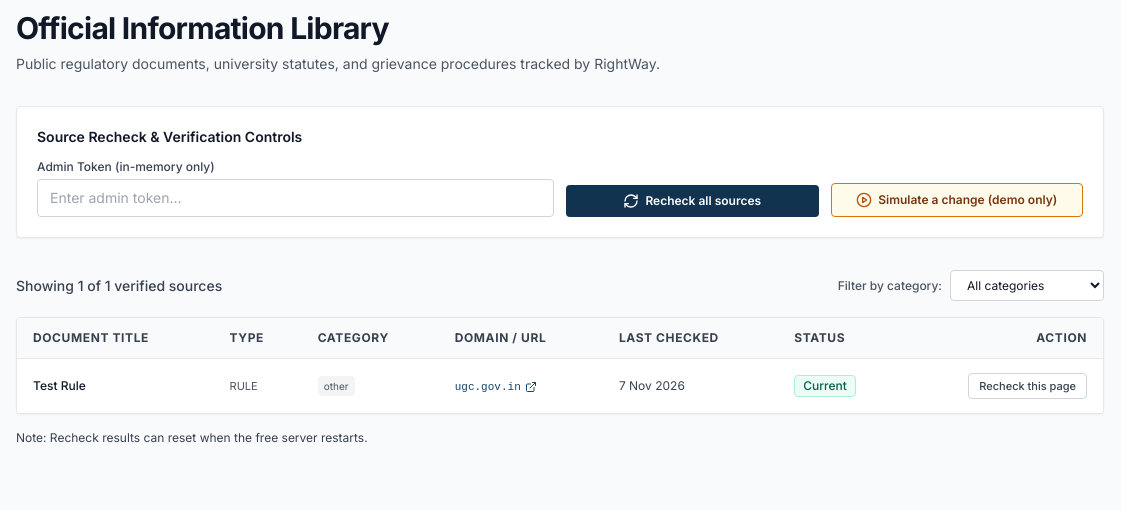
Test: Step 4: Sources and About Pages › shows "The admin token was not accepted." on 401 error
Expected: the text "Test Rule" is shown, [33,378,86,393]
Step 1. Type "wrong-token" into the password field labelled "Admin Token (in-memory only)" → (296, 198), box [37,179,554,217]
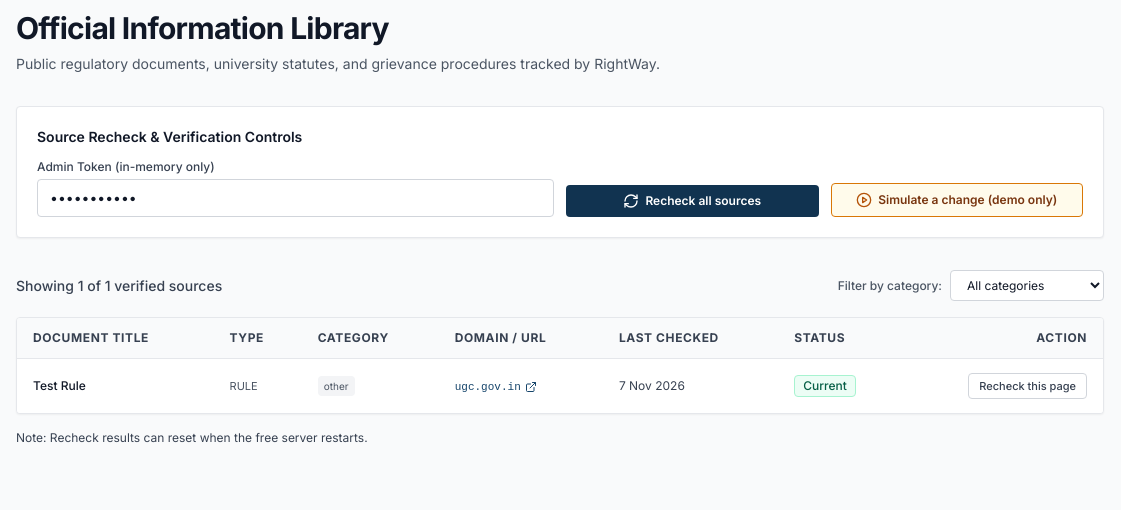
Step 2. Click the button "Recheck all sources" → (692, 201), box [566,185,818,217]
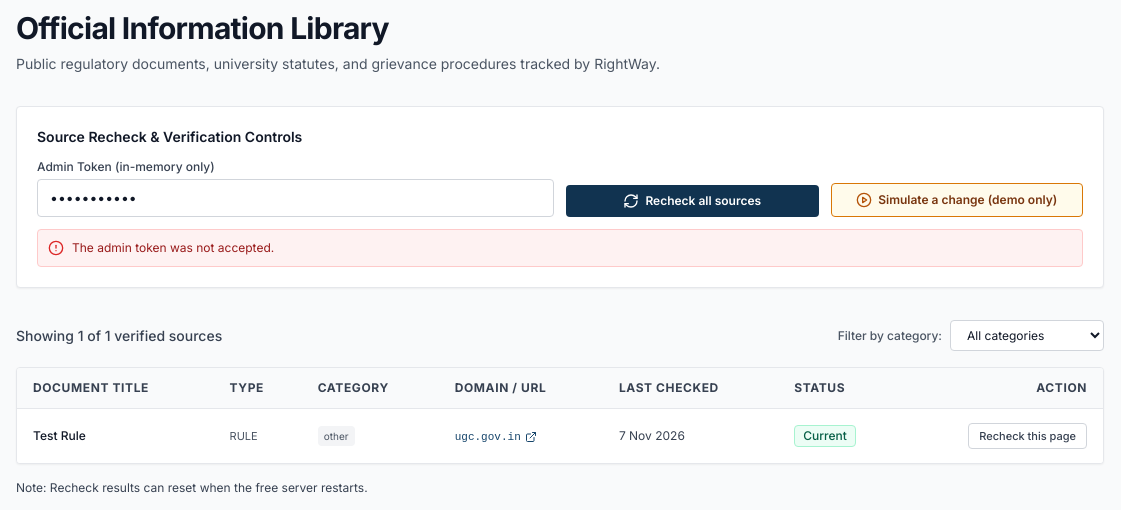
Now the text "The admin token was not accepted." is shown, box [72,240,274,256]
